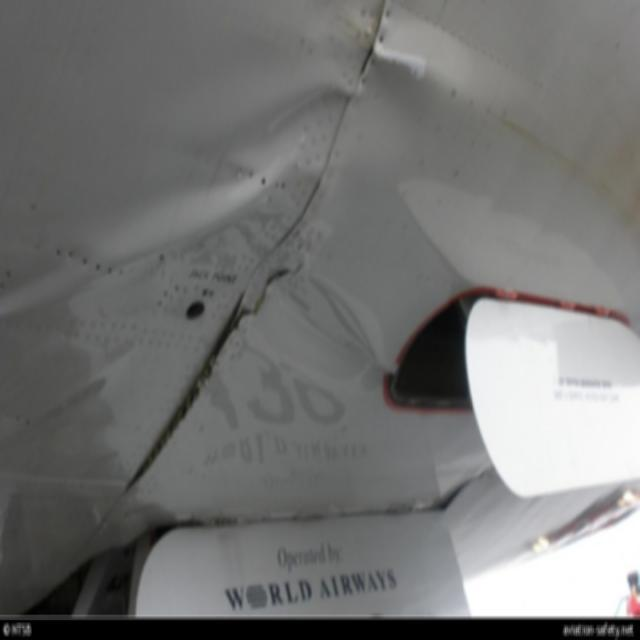crack: (226, 254, 306, 337)
dent: (3, 166, 273, 314), (220, 80, 353, 173), (352, 62, 433, 180)
